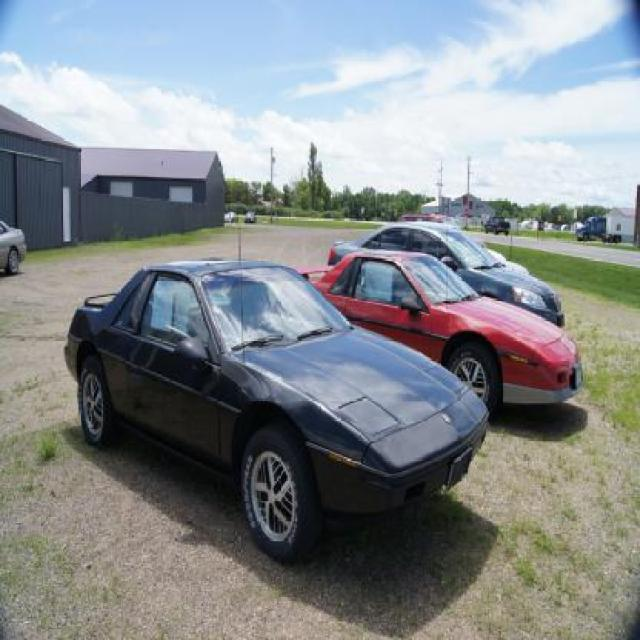truck: (62, 224, 493, 562), (291, 251, 586, 414), (326, 221, 563, 327), (388, 214, 526, 275), (0, 220, 28, 282), (482, 220, 511, 238), (243, 209, 259, 223), (226, 210, 240, 222)
